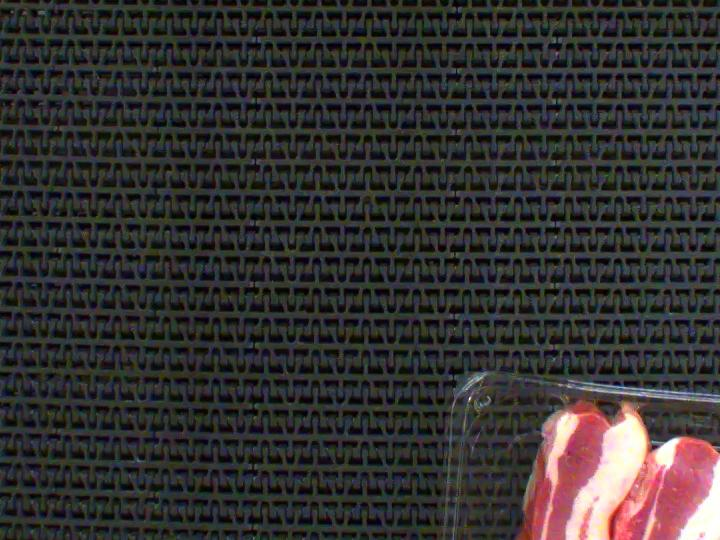packaging-error: (548, 387, 600, 411), (613, 393, 648, 419)
